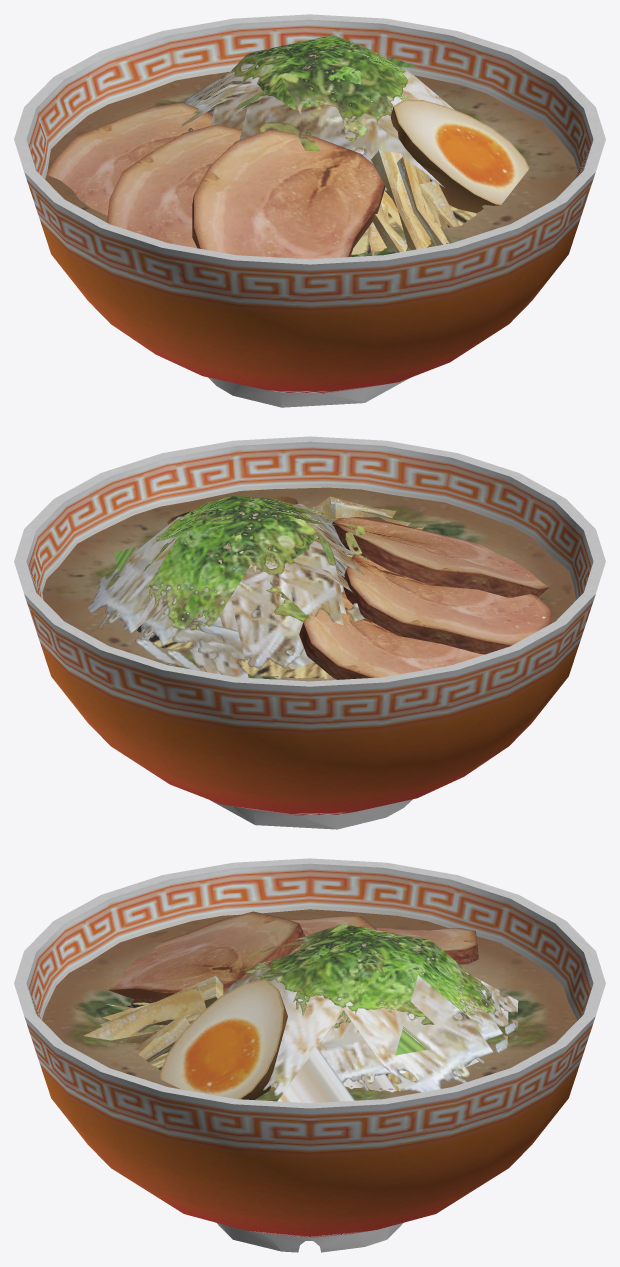
The model's file is FoodNoodle01.fbx.
3 views of the same model, one above another, from view 1: azimuth 30°, elevation 25°; view 2: azimuth 150°, elevation 25°; view 3: azimuth 270°, elevation 25° (orthographic).
Parts seen in each view (by area): view 1: FoodNoodle01; view 2: FoodNoodle01; view 3: FoodNoodle01.
Boxes of the visible parts, x1=… form: FoodNoodle01: x1=14, y1=14, x2=605, y2=407; FoodNoodle01: x1=14, y1=436, x2=605, y2=829; FoodNoodle01: x1=14, y1=858, x2=605, y2=1252.
Bounding box in the file's own units: 20.82 × 11 × 20.83.
